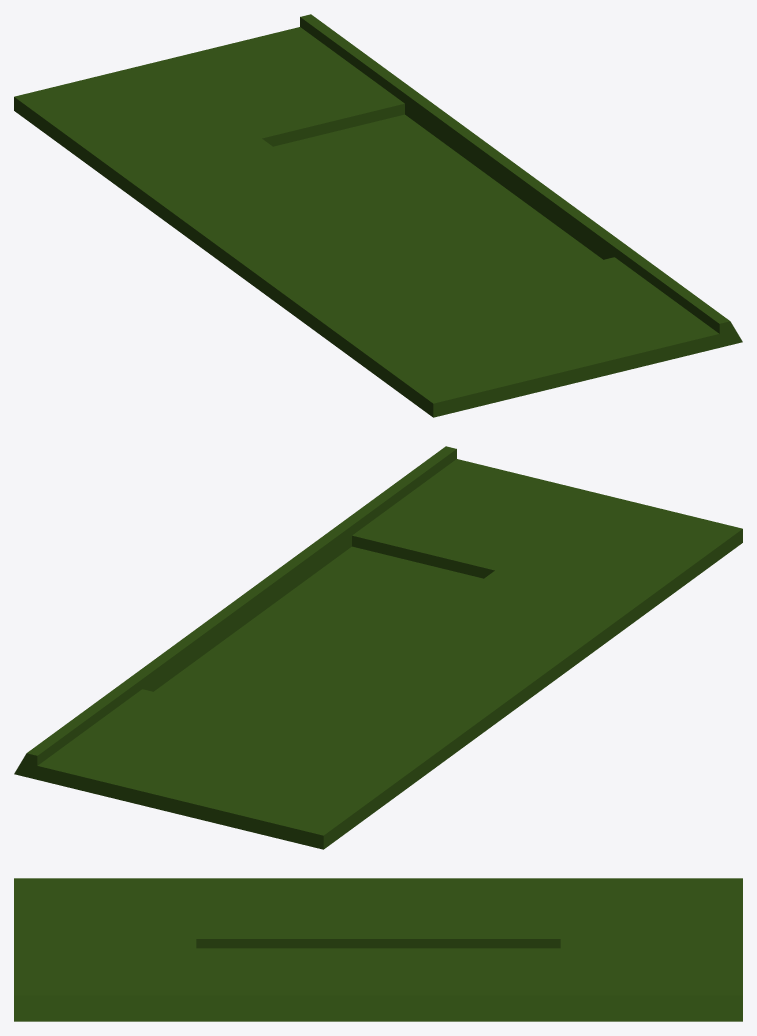
Rendered from planeGreen.glb.
The picture shows the model from 3 angles, top to bottom: view 1: azimuth 30°, elevation 25°; view 2: azimuth 150°, elevation 25°; view 3: azimuth 270°, elevation 25°; orthographic projection. The views are drawn at different scales.
Parts seen in each view (by area): view 1: Plane; view 2: Plane; view 3: Plane.
Boxes of the visible parts, x1,y1,x2,y2 form: Plane: (14,14,742,417); Plane: (14,446,742,849); Plane: (14,878,742,1021).
Bounding box in the file's own units: 4.16 × 0.3088 × 9.77.
1 material, 1 textured.
